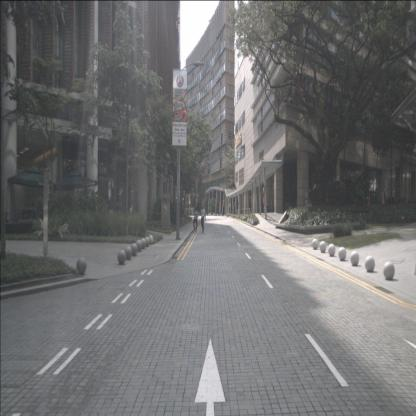human-pedestrian-adult: (201, 204, 206, 233), (193, 206, 198, 233)
